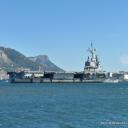Portanaves: (6, 40, 128, 86)
